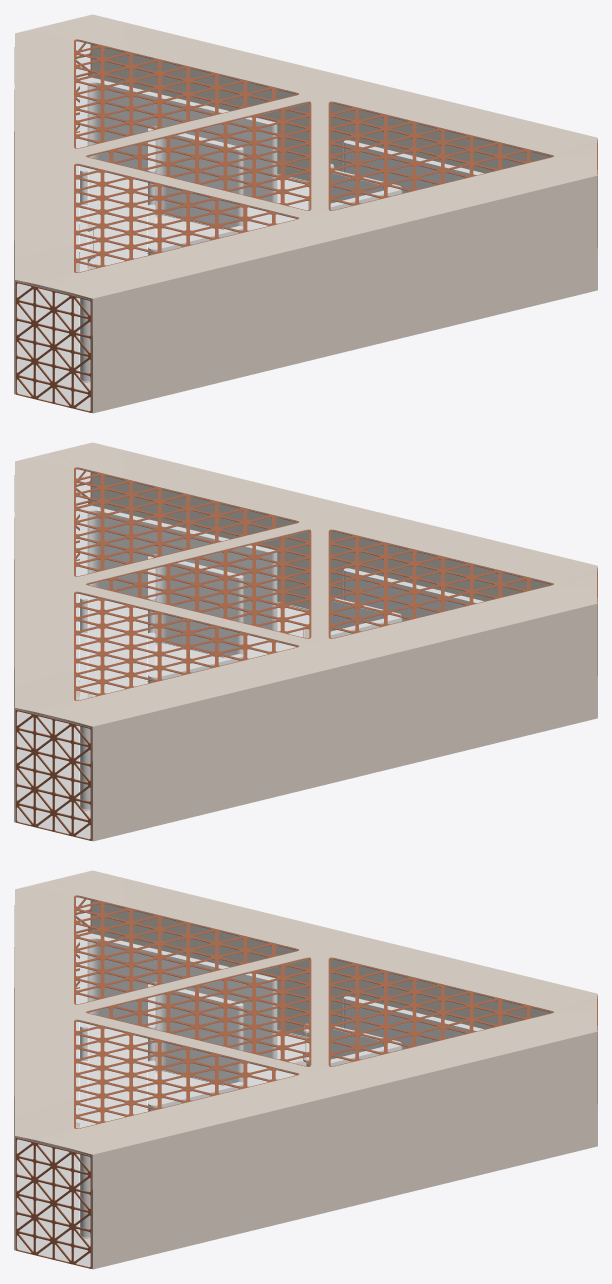
File: VRGallery05.glb
The picture shows the model from 3 angles, top to bottom: view 1: azimuth 30°, elevation 25°; view 2: azimuth 150°, elevation 25°; view 3: azimuth 270°, elevation 25°; orthographic projection.
Parts seen in each view (by area): view 1: Outer_wall, Windows, Inner_walls, Floor; view 2: Outer_wall, Windows, Inner_walls, Floor; view 3: Outer_wall, Windows, Inner_walls, Floor.
Boxes of the visible parts, x1,y1,x2,y2 form: Outer_wall: [14, 14, 597, 413]; Windows: [15, 39, 597, 412]; Inner_walls: [79, 77, 483, 382]; Floor: [17, 132, 309, 410]; Outer_wall: [14, 442, 597, 841]; Windows: [15, 467, 597, 840]; Inner_walls: [79, 505, 483, 810]; Floor: [17, 560, 309, 838]; Outer_wall: [14, 870, 597, 1269]; Windows: [15, 895, 597, 1268]; Inner_walls: [79, 933, 483, 1238]; Floor: [17, 988, 309, 1266].
Bounding box in the file's own units: 14.91 × 2.8 × 12.91.
